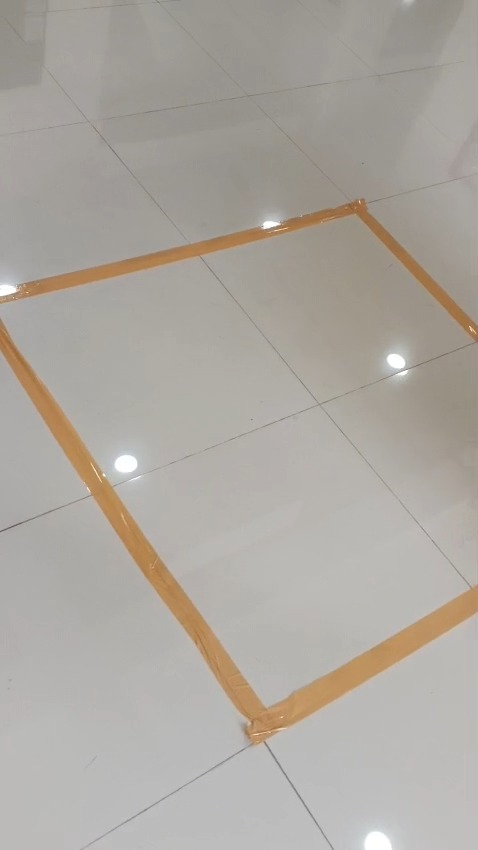floor marking: (0, 322, 476, 743), (0, 199, 477, 341)
